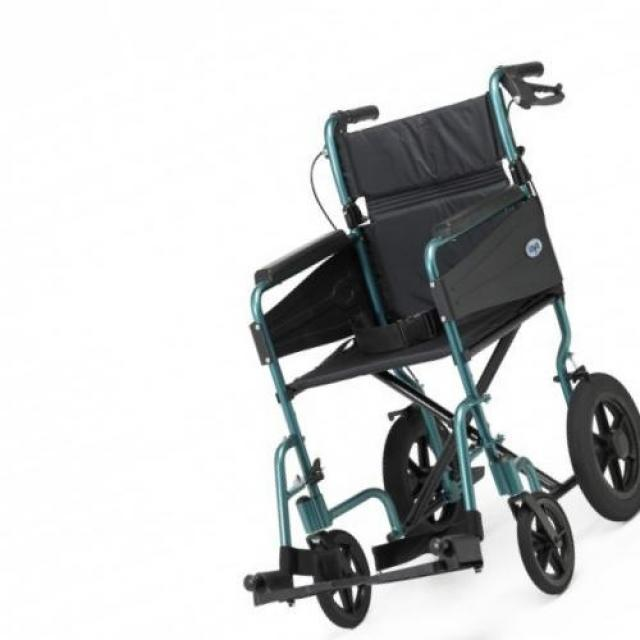wheelchair: (222, 38, 640, 637)
